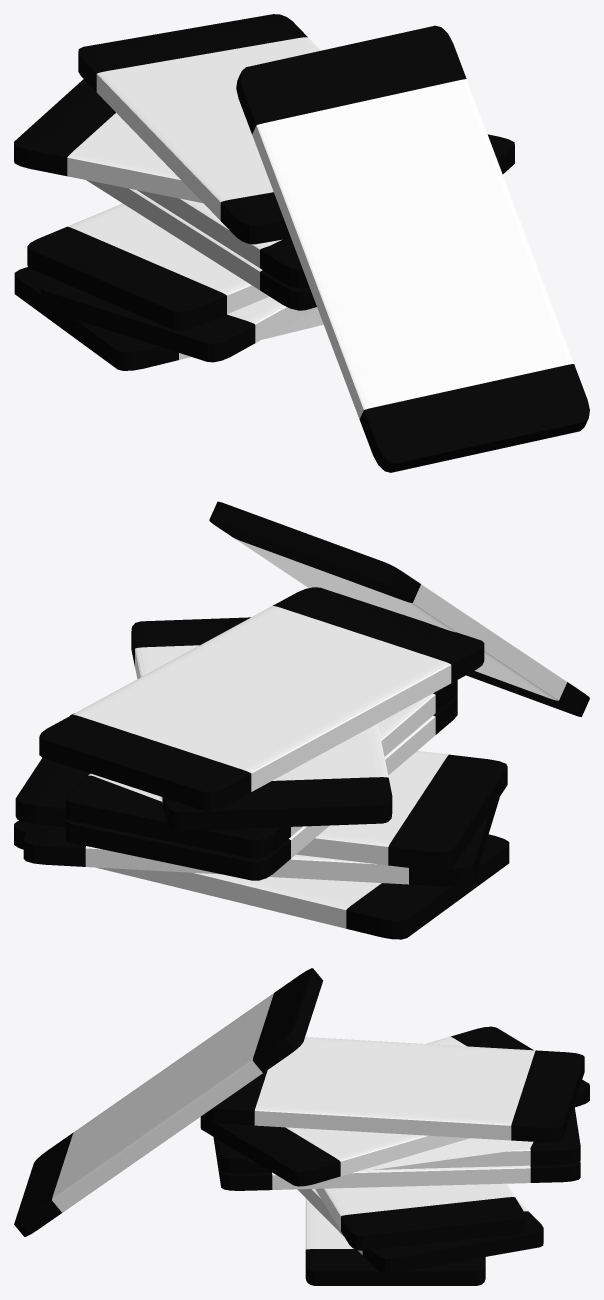
Rendered from games_desk.obj.
3 renders of one model, top to bottom at view 1: azimuth 30°, elevation 25°; view 2: azimuth 150°, elevation 25°; view 3: azimuth 270°, elevation 25°, orthographic. The views are drawn at different scales.
Parts seen in each view (by area): view 1: Cube.028_Material.013; view 2: Cube.028_Material.013; view 3: Cube.028_Material.013.
Boxes of the visible parts, <box> form: Cube.028_Material.013: <box>14,14,589,472</box>; Cube.028_Material.013: <box>14,501,589,939</box>; Cube.028_Material.013: <box>14,968,589,1285</box>.
Bounding box in the file's own units: 0.2192 × 0.1363 × 0.3198.
Materials: 1 (1 with a texture image).
